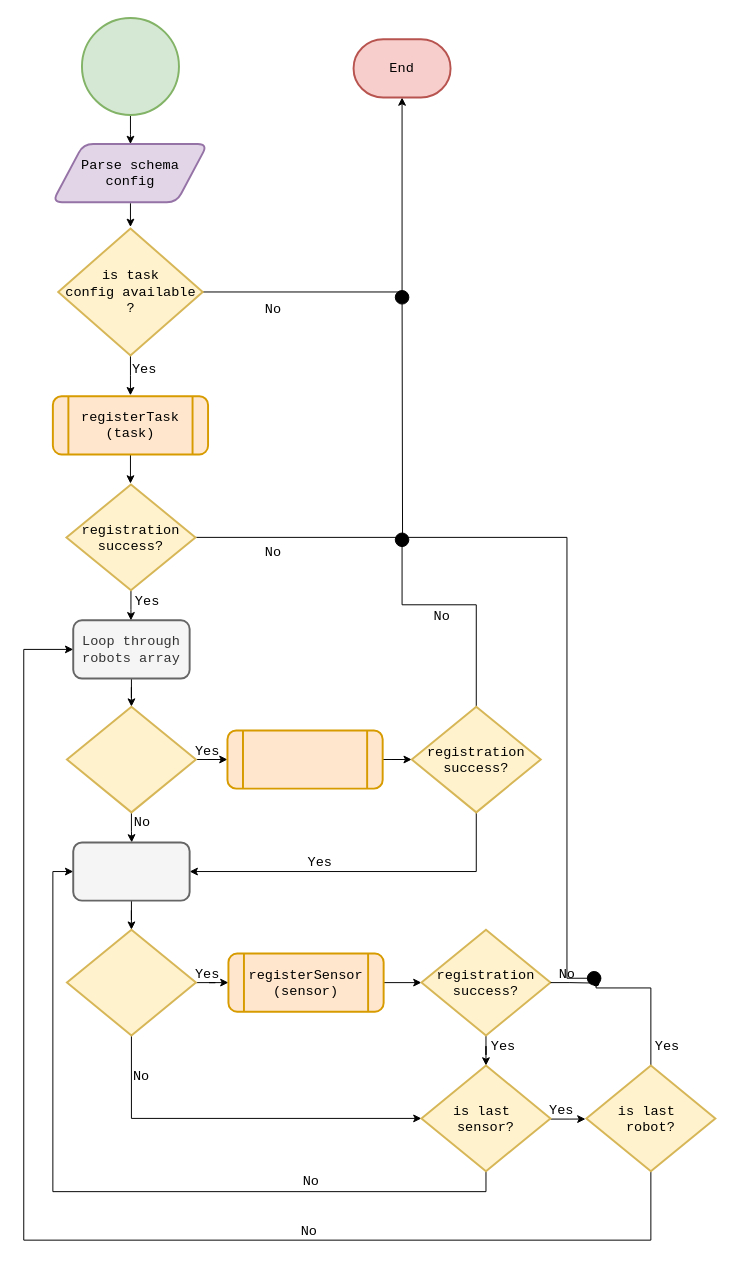
Image size: 733x1265. Some labels were removed from this diagram. The shapes that lost their labels are listed below. From the top down, each one's centre as x and y in pixels, then its label:
point (130, 65): Start
point (130, 759): is new robot?
point (304, 759): registerRobot (robot)
point (131, 871): Loop through sensors array
point (130, 982): is new sensor?
